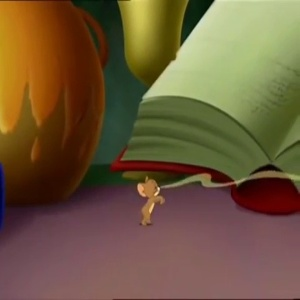Jerry: (138, 173, 161, 198)
